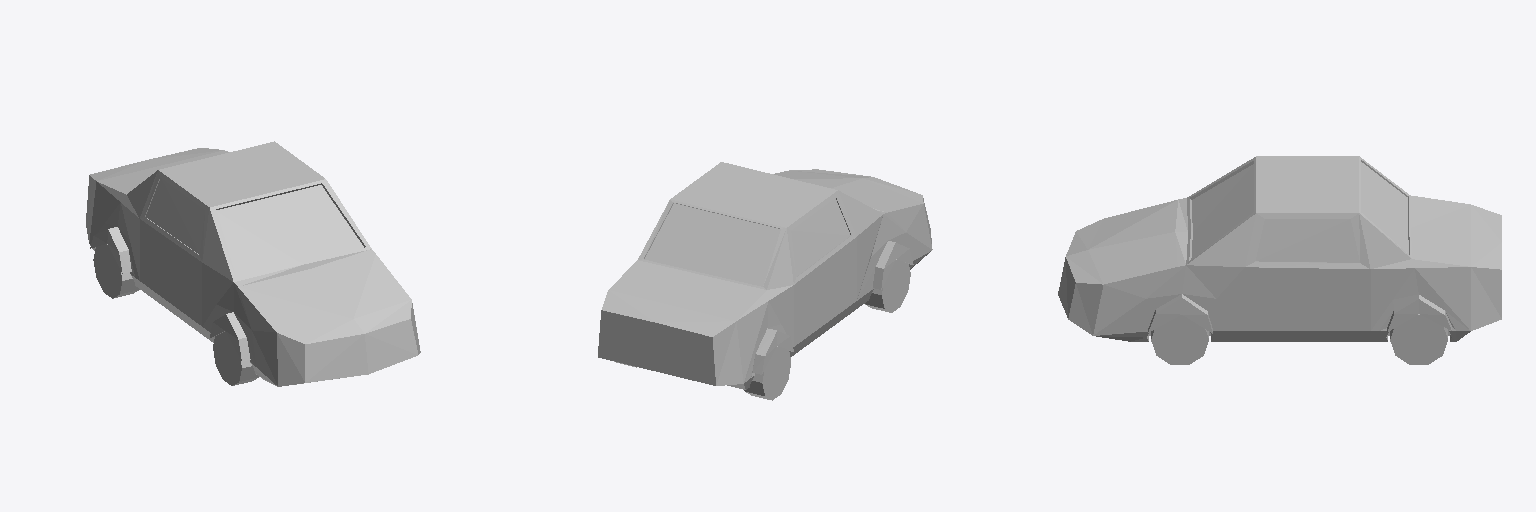
File: blitz.obj
3 renders of one model, left to right at view 1: azimuth 30°, elevation 25°; view 2: azimuth 150°, elevation 25°; view 3: azimuth 270°, elevation 25°, orthographic.
Parts seen in each view (by area): view 1: blitz:pCube2, blitz:pCylinder2, blitz:pCylinder6; view 2: blitz:pCube2, blitz:pCylinder2, blitz:pCylinder6; view 3: blitz:pCube2, blitz:pCylinder8, blitz:pCylinder7.
Boxes of the visible parts, x1,y1,x2,y2 form: blitz:pCube2: [86, 141, 420, 386]; blitz:pCylinder2: [93, 244, 139, 298]; blitz:pCylinder6: [213, 331, 258, 385]; blitz:pCube2: [598, 162, 932, 389]; blitz:pCylinder2: [744, 346, 790, 400]; blitz:pCylinder6: [865, 259, 910, 312]; blitz:pCube2: [1058, 156, 1501, 341]; blitz:pCylinder8: [1390, 314, 1447, 364]; blitz:pCylinder7: [1151, 315, 1208, 364].
Size of the model in its own units: 2.27 by 1.94 by 5.47.